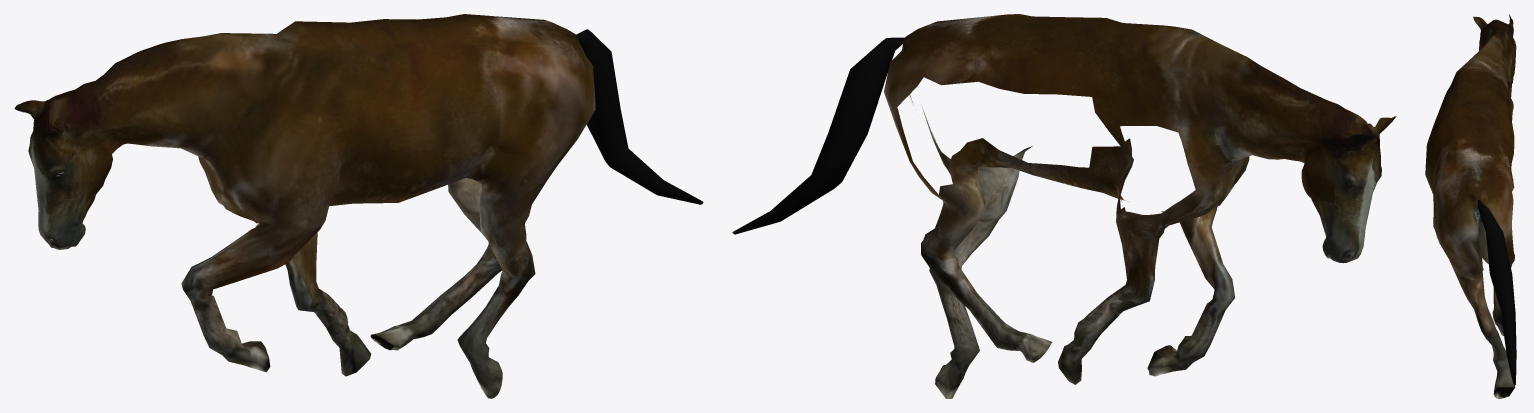
The model's file is horse_dead_1.glb.
The picture shows the model from 3 angles, left to right: view 1: azimuth 30°, elevation 25°; view 2: azimuth 150°, elevation 25°; view 3: azimuth 270°, elevation 25°; orthographic projection. The views are drawn at different scales.
Bounding box in the file's own units: 139 × 84.71 × 26.84.
1 material, 1 textured.
